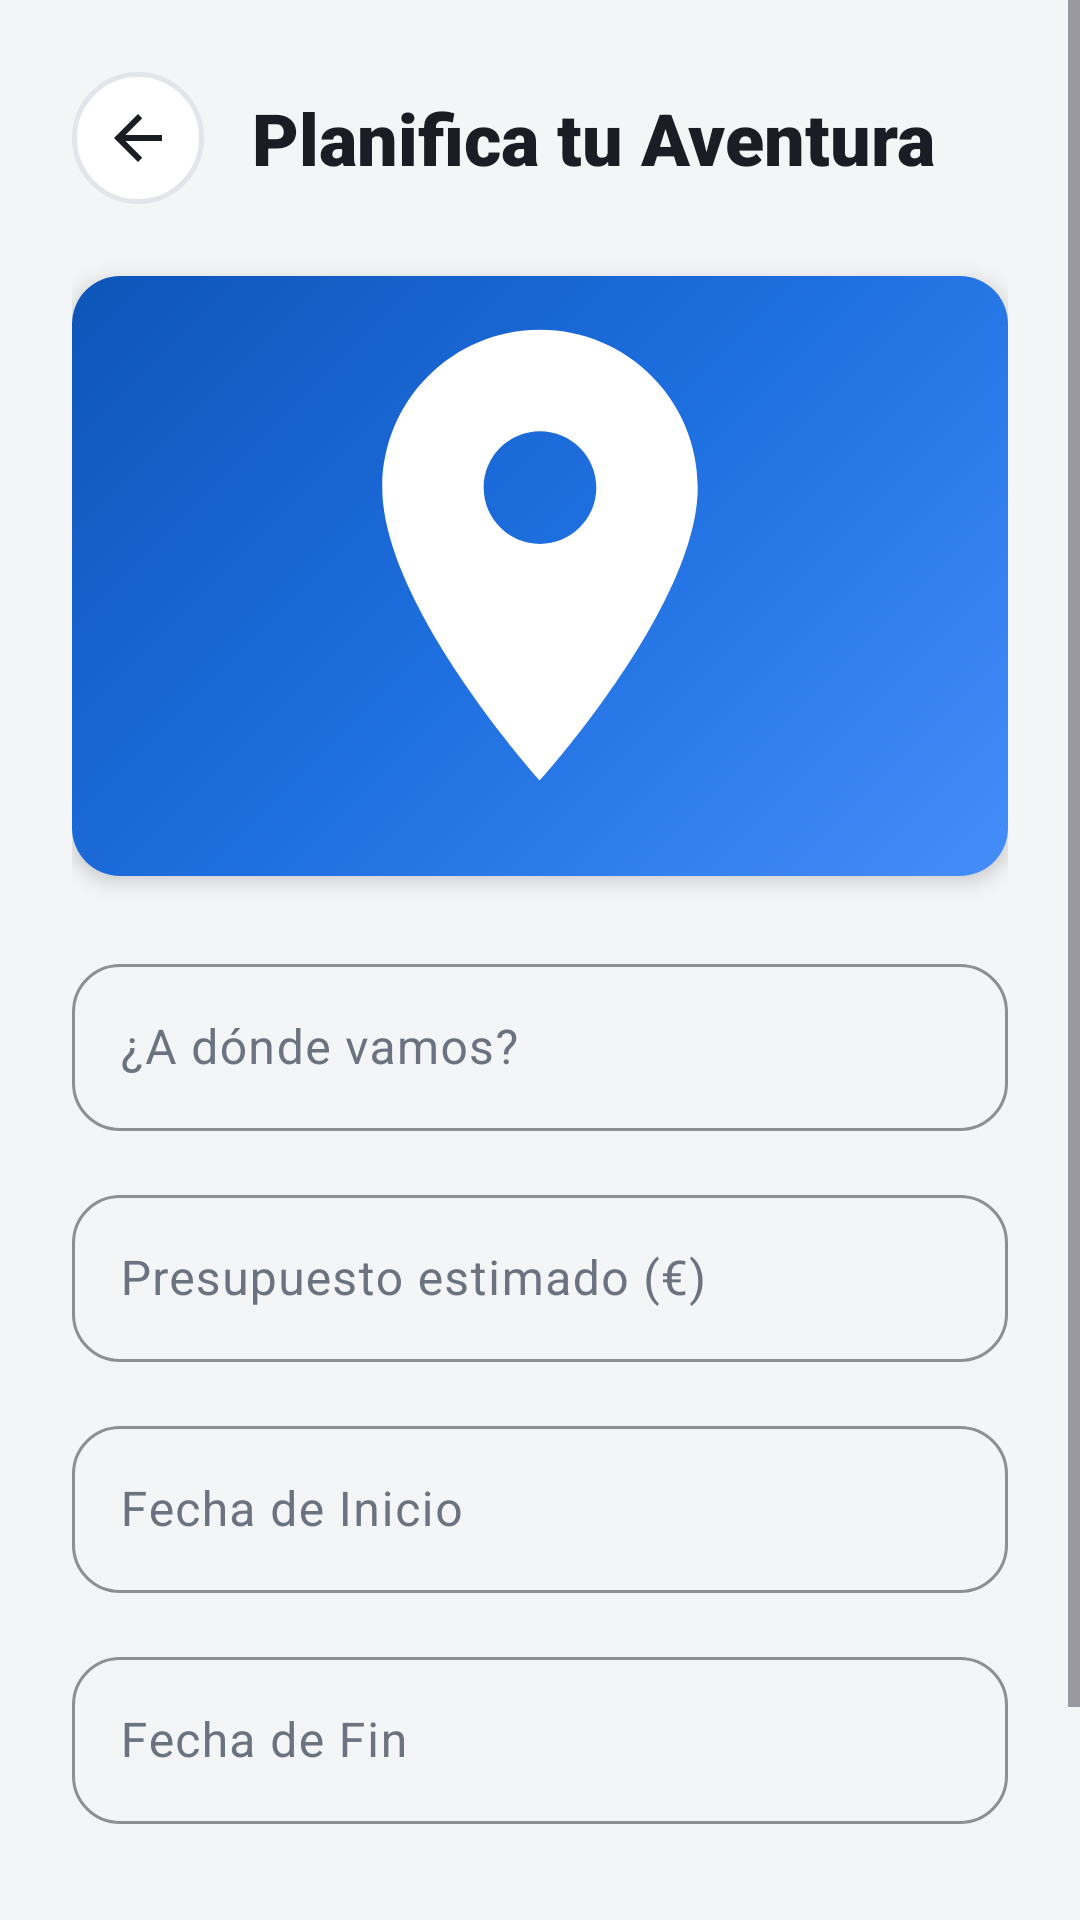

Screen size 1080w x 1920h. Icon name, then its center in pixels as point (x, y):
Volver: point (138, 138)
